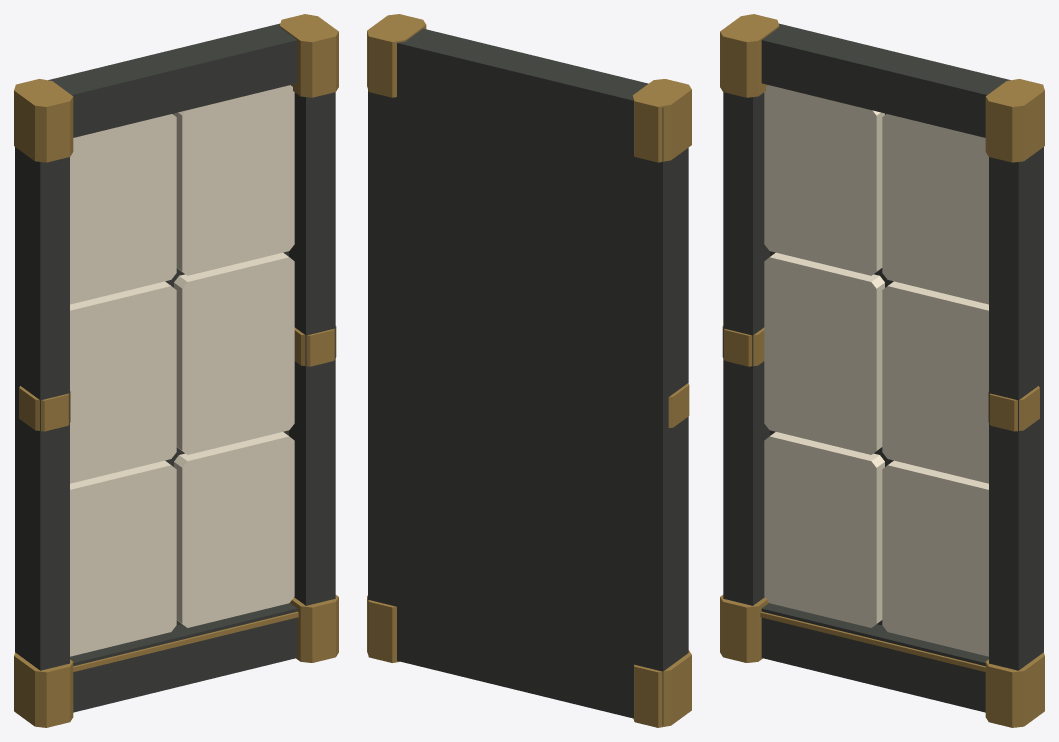
The model's file is b1_wall_plain.glb.
3 views of the same model, side by side, from view 1: azimuth 30°, elevation 25°; view 2: azimuth 150°, elevation 25°; view 3: azimuth 330°, elevation 25° (orthographic).
Parts seen in each view (by area): view 1: b1_wall_plain; view 2: b1_wall_plain; view 3: b1_wall_plain.
Boxes of the visible parts, x1,y1,x2,y2 form: b1_wall_plain: [14, 14, 338, 727]; b1_wall_plain: [367, 14, 691, 727]; b1_wall_plain: [720, 14, 1044, 727].
Size of the model in its own units: 2.06 by 4.02 by 0.36.
